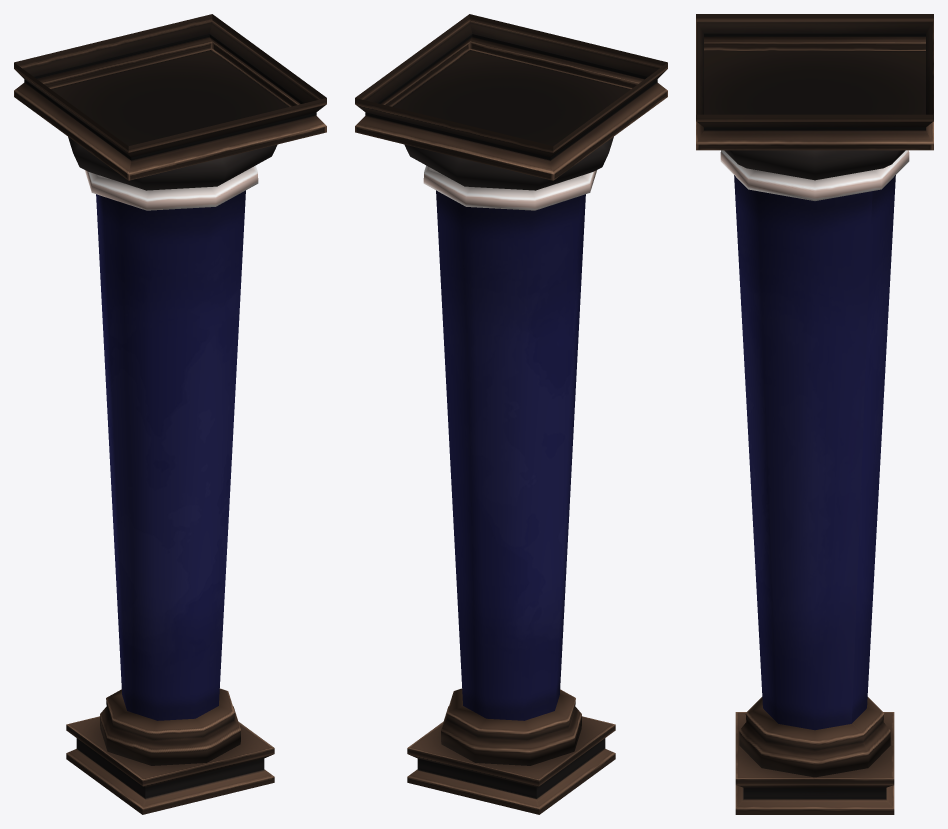
File: em_column_atrium_medium.fbx
The picture shows the model from 3 angles, left to right: view 1: azimuth 30°, elevation 25°; view 2: azimuth 150°, elevation 25°; view 3: azimuth 270°, elevation 25°; orthographic projection. The views are drawn at different scales.
Parts seen in each view (by area): view 1: em_column_atrium_medium; view 2: em_column_atrium_medium; view 3: em_column_atrium_medium.
Part boxes in pixels (x1,y1,x2,y2): em_column_atrium_medium: [14, 14, 326, 814]; em_column_atrium_medium: [355, 14, 667, 814]; em_column_atrium_medium: [696, 14, 933, 814].
Bounding box in the file's own units: 300 × 998 × 300.
